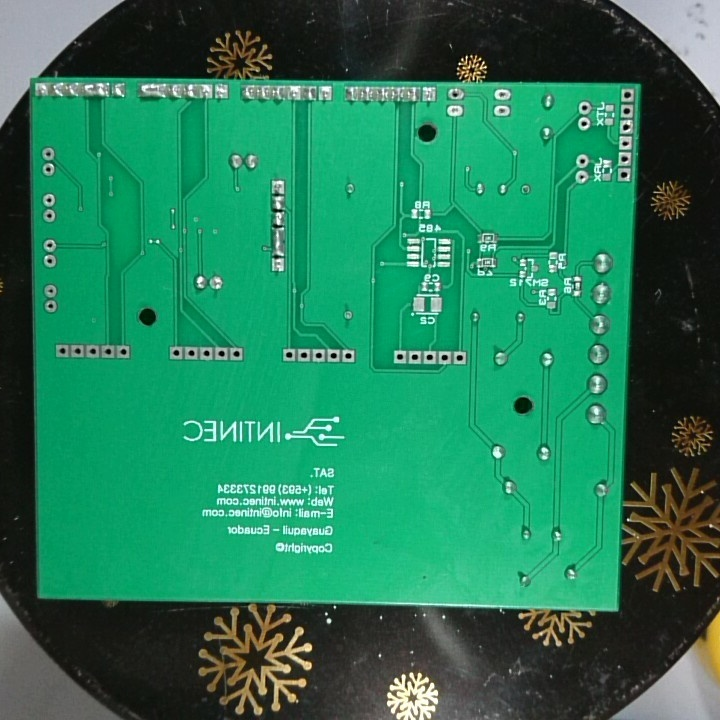F: (41, 297, 60, 318), (422, 346, 439, 368), (41, 252, 59, 272), (99, 341, 116, 362), (213, 344, 230, 364), (576, 114, 593, 134), (493, 86, 510, 106), (213, 83, 230, 103), (270, 255, 287, 275), (493, 103, 514, 119), (270, 179, 288, 197), (453, 349, 470, 368), (577, 99, 594, 118), (41, 142, 56, 163), (42, 207, 60, 224), (53, 343, 70, 361), (391, 348, 407, 367), (447, 86, 466, 102), (209, 275, 225, 294), (184, 343, 198, 364), (280, 346, 297, 363), (42, 161, 58, 179), (43, 280, 59, 298), (619, 102, 635, 120), (573, 169, 589, 187), (34, 80, 50, 98), (311, 346, 326, 365), (618, 133, 633, 152), (41, 192, 58, 208), (41, 237, 57, 254), (619, 118, 635, 135), (620, 87, 636, 104), (116, 342, 131, 360), (341, 348, 356, 366), (407, 347, 422, 365), (86, 343, 100, 362), (327, 347, 341, 366), (575, 152, 589, 171), (341, 308, 356, 325), (445, 105, 468, 116), (230, 346, 244, 364), (169, 345, 184, 361), (287, 84, 299, 104), (199, 83, 211, 103), (70, 345, 84, 361), (297, 347, 311, 363), (438, 350, 452, 366), (199, 344, 211, 362), (421, 86, 433, 104), (317, 85, 327, 105), (616, 168, 631, 181), (619, 151, 632, 166), (519, 183, 531, 198)
P: (270, 224, 289, 255), (138, 82, 169, 101), (81, 82, 110, 99)
